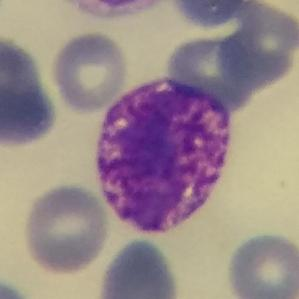Basophil: (83, 57, 247, 249)
Lymphocyte: (58, 0, 174, 21)
RBC: (18, 182, 112, 276), (162, 32, 258, 110), (49, 29, 130, 114), (0, 31, 56, 149), (93, 236, 183, 299), (224, 230, 299, 299), (231, 0, 299, 70), (215, 30, 294, 88), (166, 0, 258, 32), (0, 276, 34, 299)
